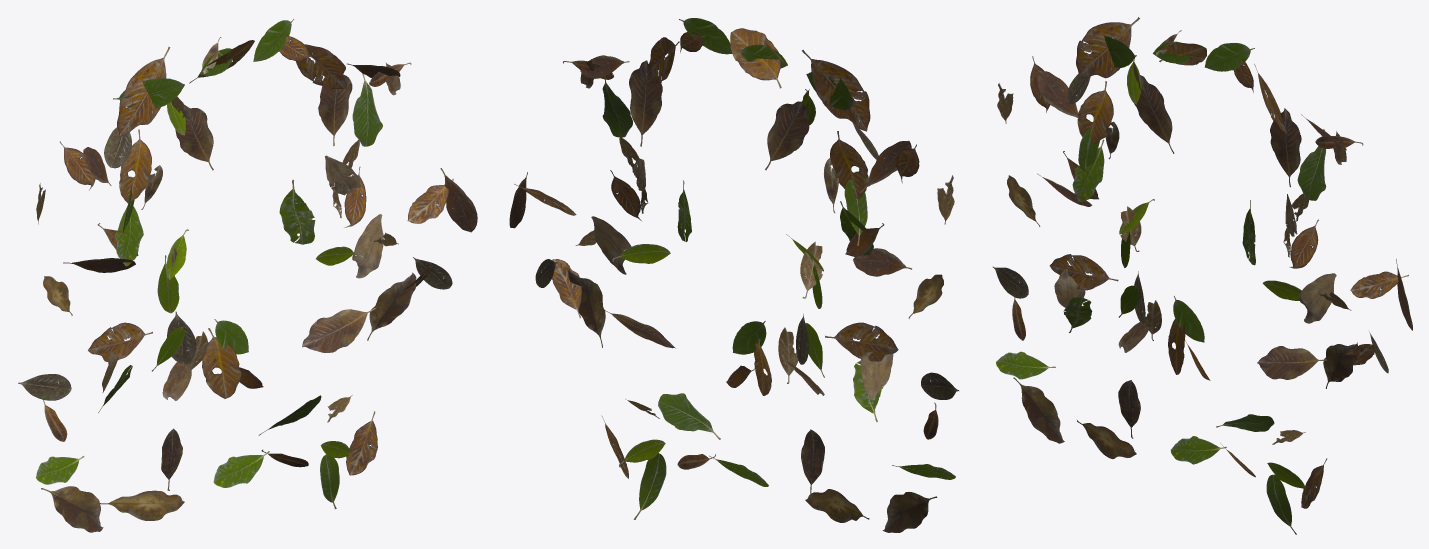
Rendered from Leaf_Pile_01_Var2_LOD2.fbx.
3 renders of one model, left to right at view 1: azimuth 30°, elevation 25°; view 2: azimuth 150°, elevation 25°; view 3: azimuth 330°, elevation 25°, orthographic. The views are drawn at different scales.
Parts seen in each view (by area): view 1: Var2_LOD2; view 2: Var2_LOD2; view 3: Var2_LOD2.
Part boxes in pixels (<box>): Var2_LOD2: <box>18,19,477,532</box>; Var2_LOD2: <box>509,18,958,532</box>; Var2_LOD2: <box>993,17,1412,534</box>.
Bounding box in the file's own units: 93.42 × 99.84 × 6.31.
